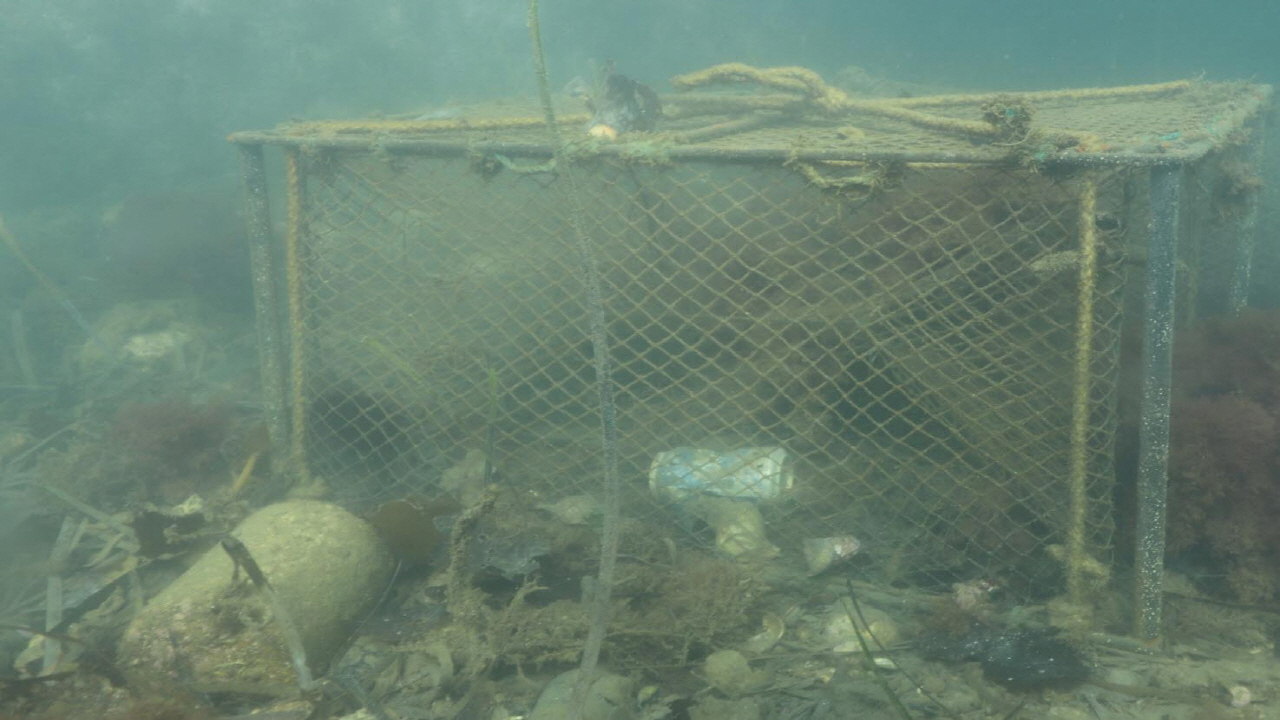bundle of ropes: (294, 63, 1190, 137)
rectangular fish trap: (224, 79, 1275, 650)
